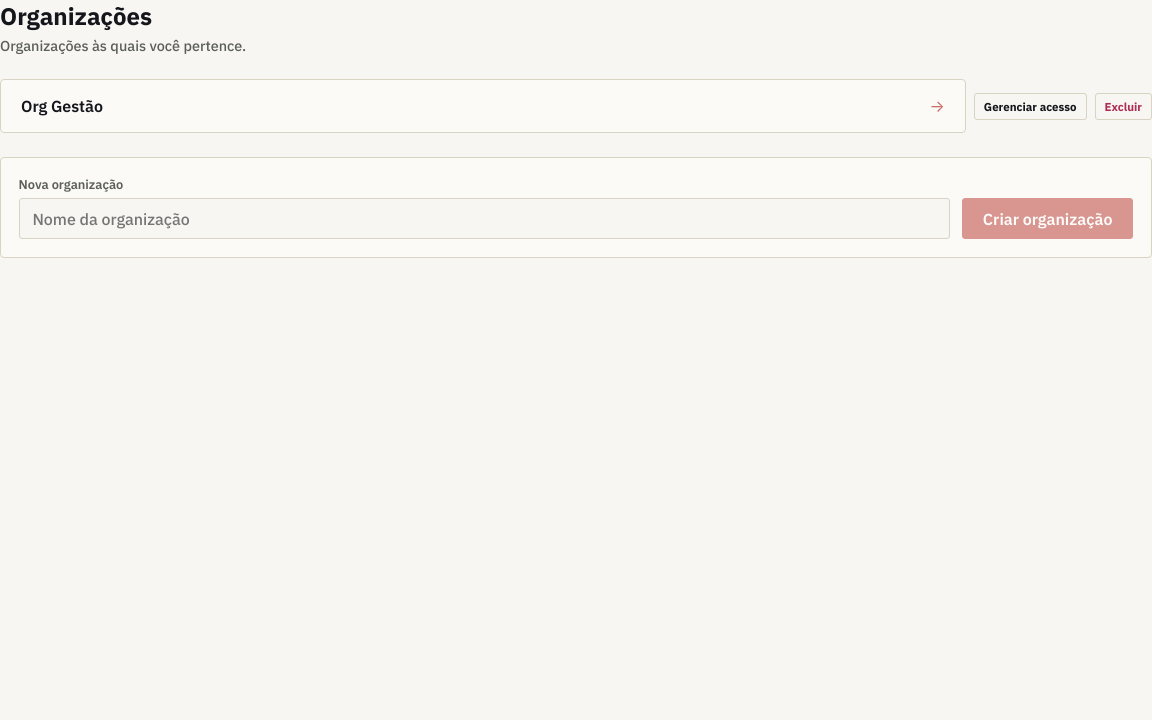
OrganizationsPage — gestão de acesso (TASK-013) › abre o modal de gestão de acesso da organização certa
Expected: the text "Org Gestão" is shown, [21,96,103,116]
Click the button "Gerenciar acesso": coordinates (1030, 106) [974,92,1087,120]
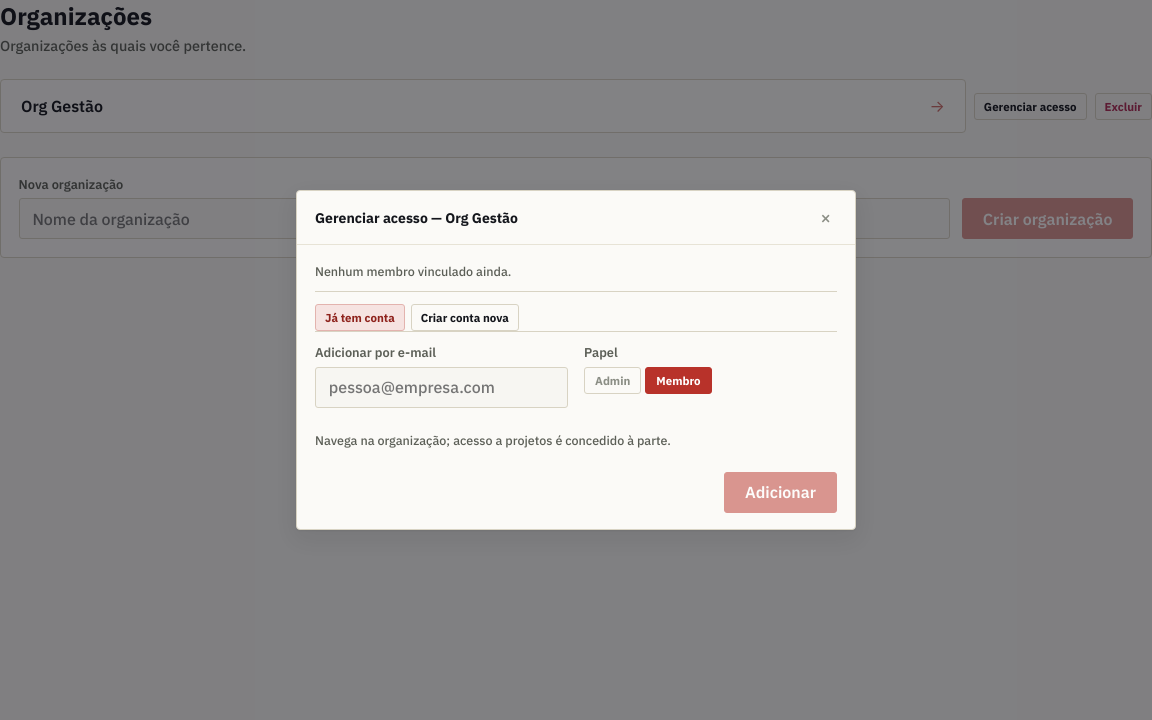
Now the heading "Gerenciar acesso — Org Gestão" is shown, box [315,208,518,226]
